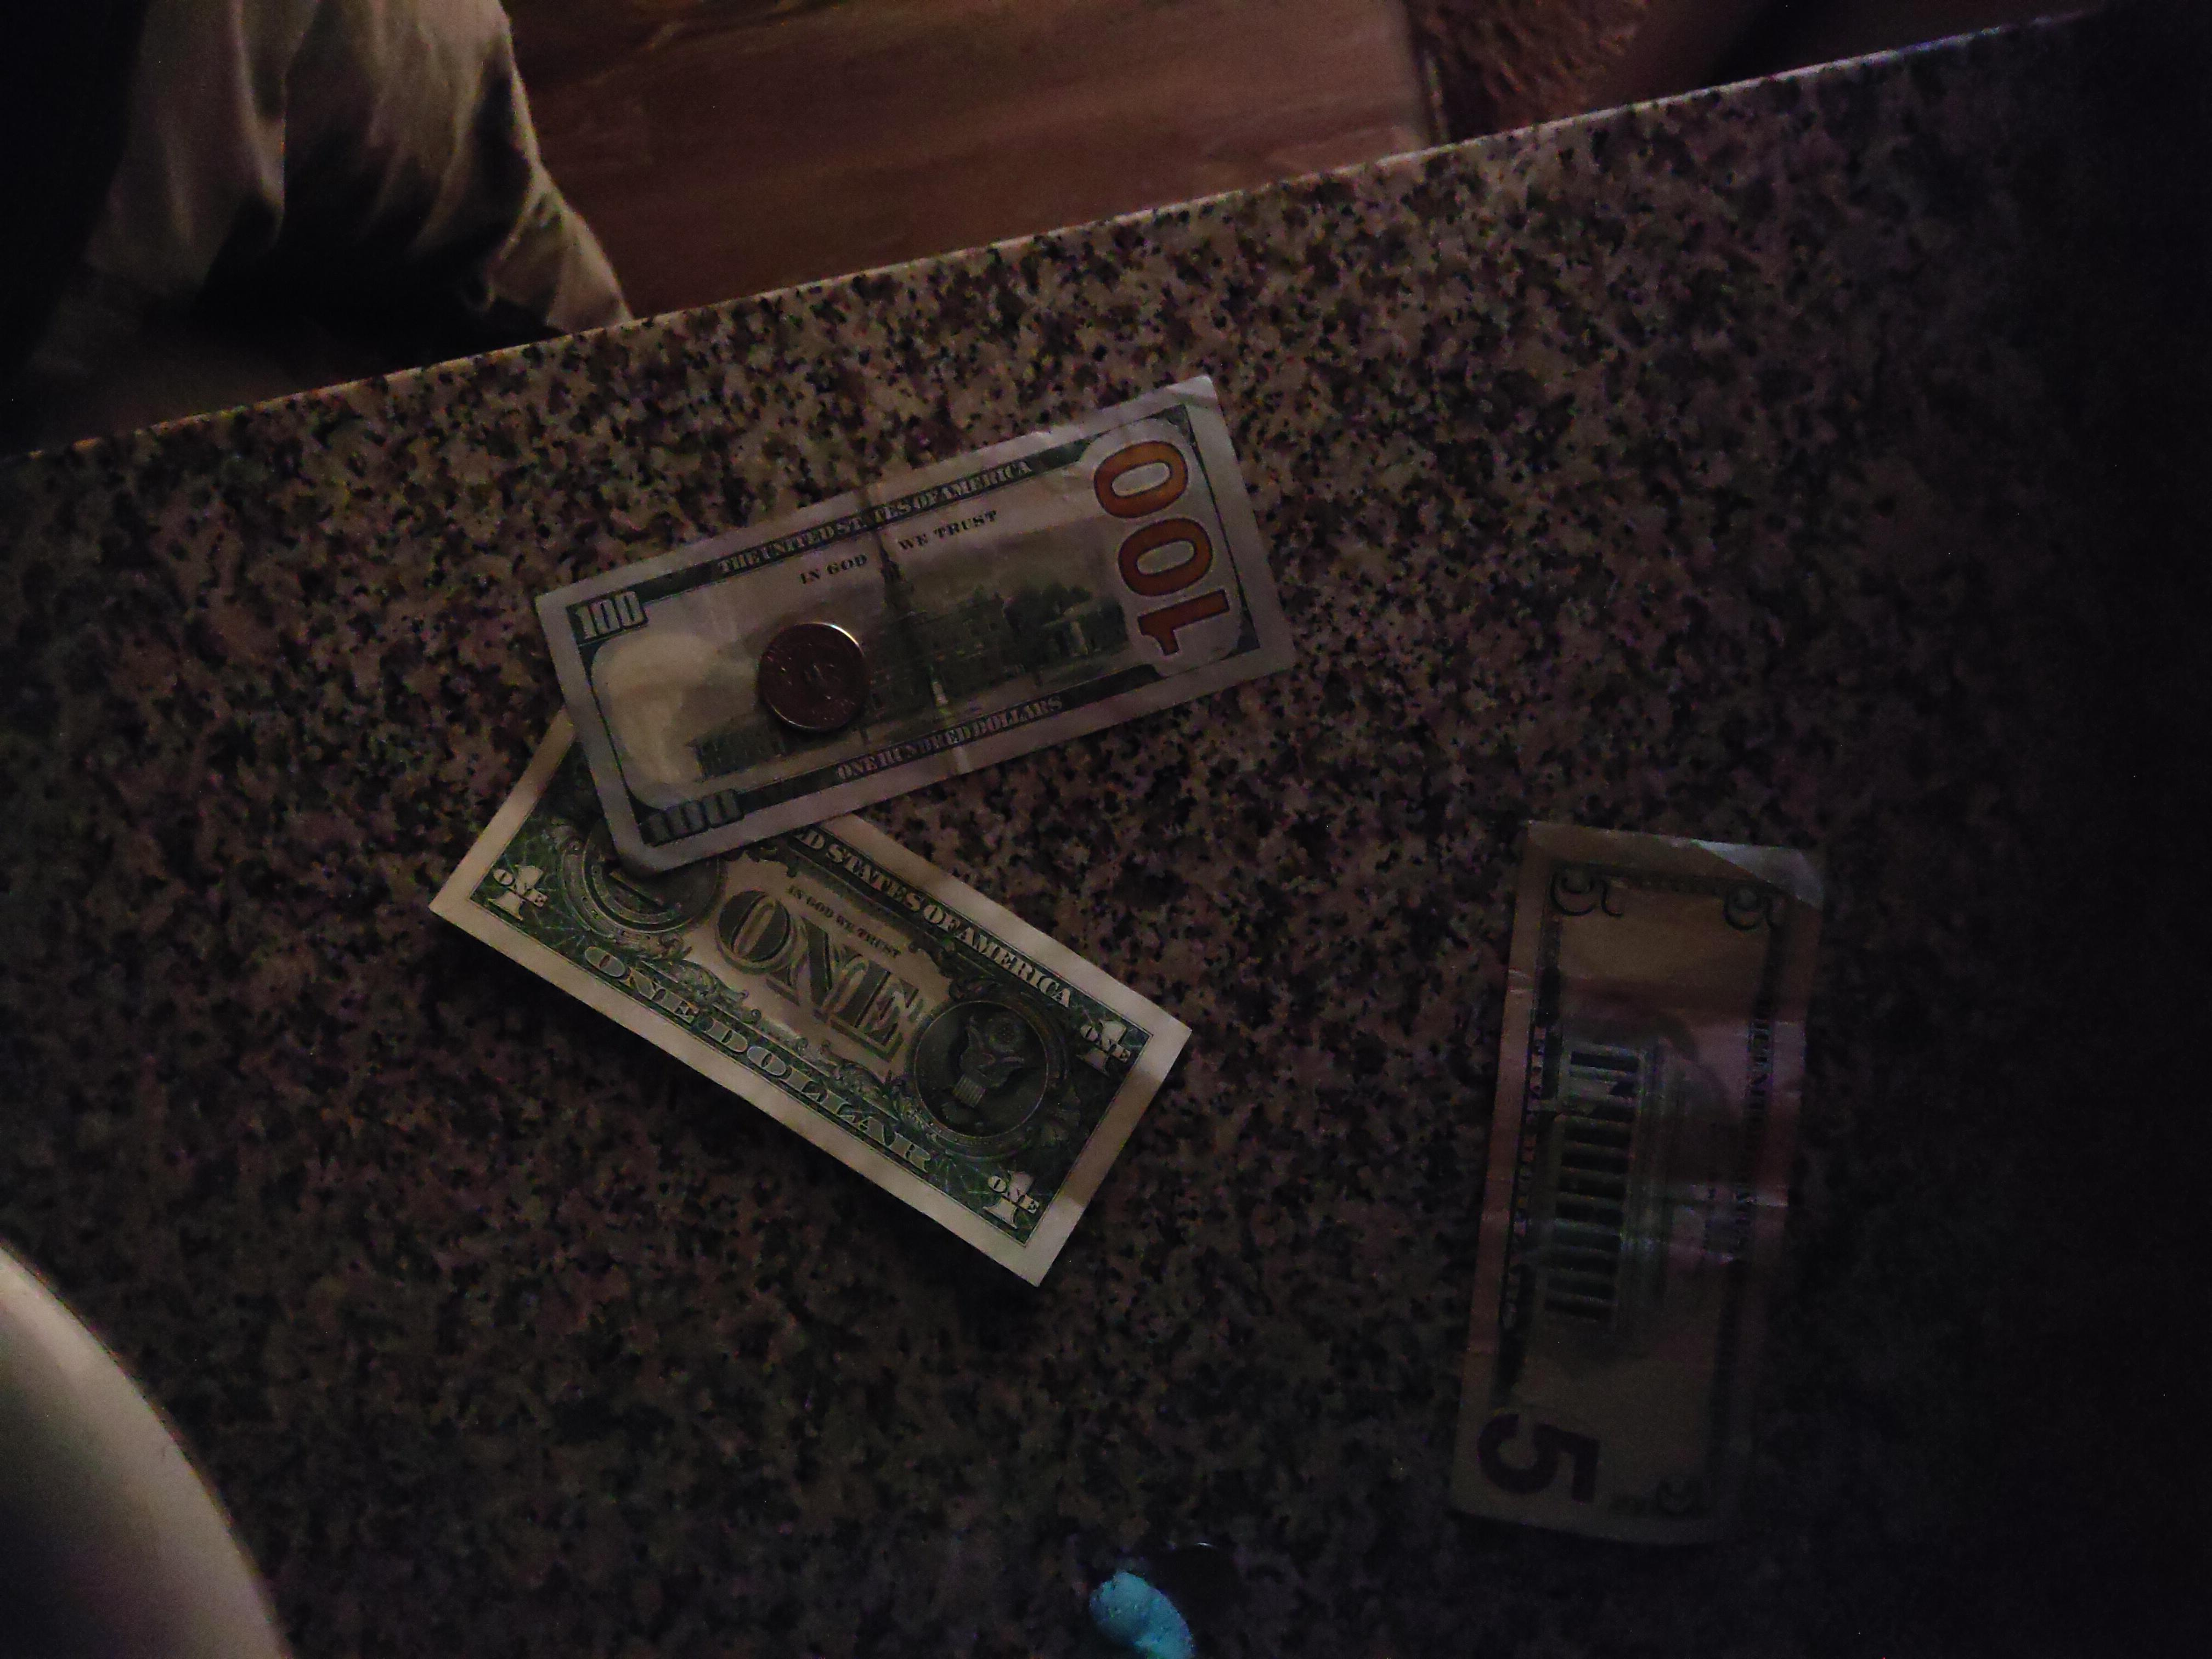Dime: (1151, 1535, 1245, 1628)
FiveBill: (1446, 819, 1832, 1560)
HundredBill: (529, 371, 1301, 880)
OneBill: (425, 697, 1195, 1291)
Quarter: (756, 620, 871, 739)
